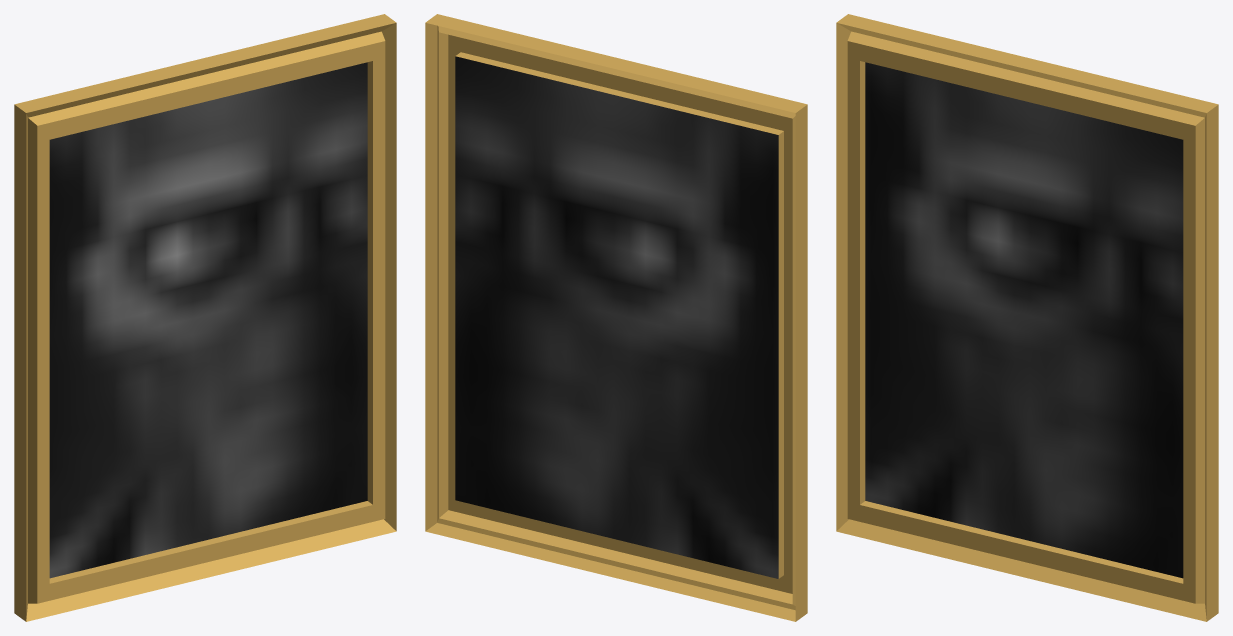
Rendered from pict2_test.fbx.
3 views of the same model, side by side, from view 1: azimuth 30°, elevation 25°; view 2: azimuth 150°, elevation 25°; view 3: azimuth 330°, elevation 25° (orthographic).
Parts seen in each view (by area): view 1: pictures1; view 2: pictures1; view 3: pictures1.
Boxes of the visible parts, <box> form: pictures1: <box>14,14,396,621</box>; pictures1: <box>425,14,807,621</box>; pictures1: <box>836,14,1218,621</box>.
Size of the model in its own units: 280 by 367 by 15.61.
